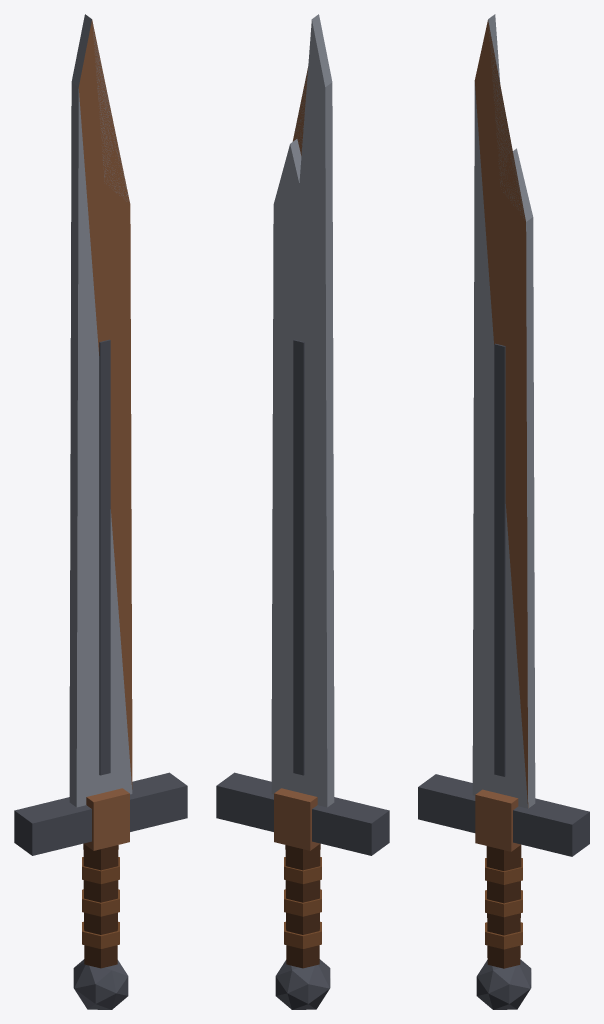
Rendered from Skeleton_SwordBroken.fbx.
3 views of the same model, side by side, from view 1: azimuth 30°, elevation 25°; view 2: azimuth 150°, elevation 25°; view 3: azimuth 330°, elevation 25° (orthographic).
Parts seen in each view (by area): view 1: Skeleton_SwordBroken; view 2: Skeleton_SwordBroken; view 3: Skeleton_SwordBroken.
Boxes of the visible parts, <box> form: Skeleton_SwordBroken: <box>14,14,187,1009</box>; Skeleton_SwordBroken: <box>216,14,389,1009</box>; Skeleton_SwordBroken: <box>418,14,589,1009</box>.
Bounding box in the file's own units: 0.15 × 0.9175 × 0.052.
